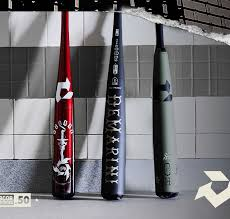baseball bat: (152, 1, 181, 199), (52, 1, 77, 199), (102, 1, 124, 201)
